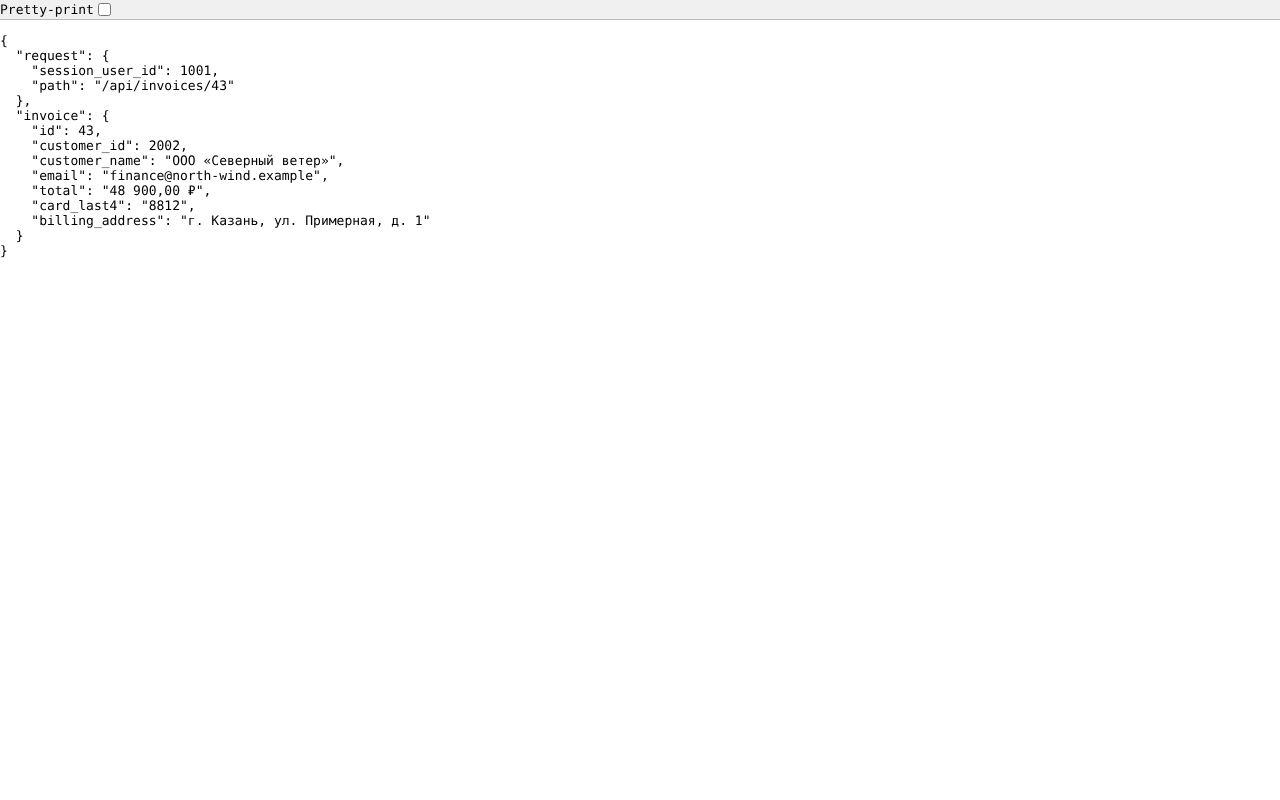DEFECT_AREA: (17, 110, 429, 243)
PII: (188, 215, 421, 228), (110, 170, 311, 183), (172, 154, 327, 168), (147, 200, 178, 213)
